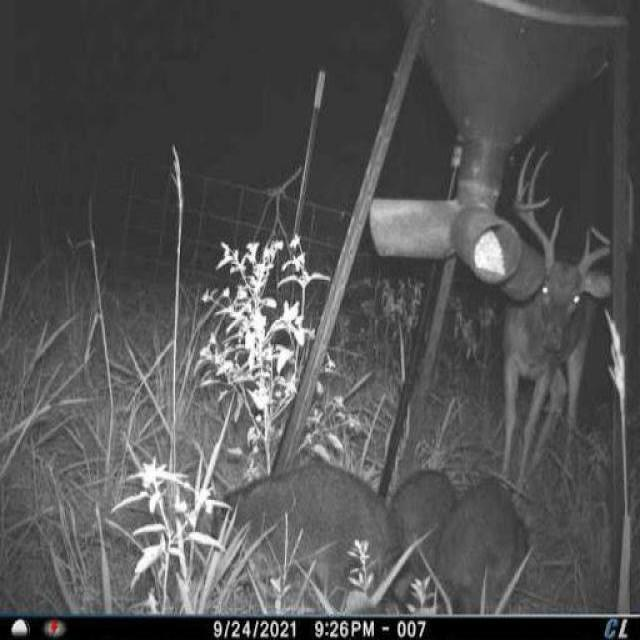deer: (489, 138, 640, 498)
